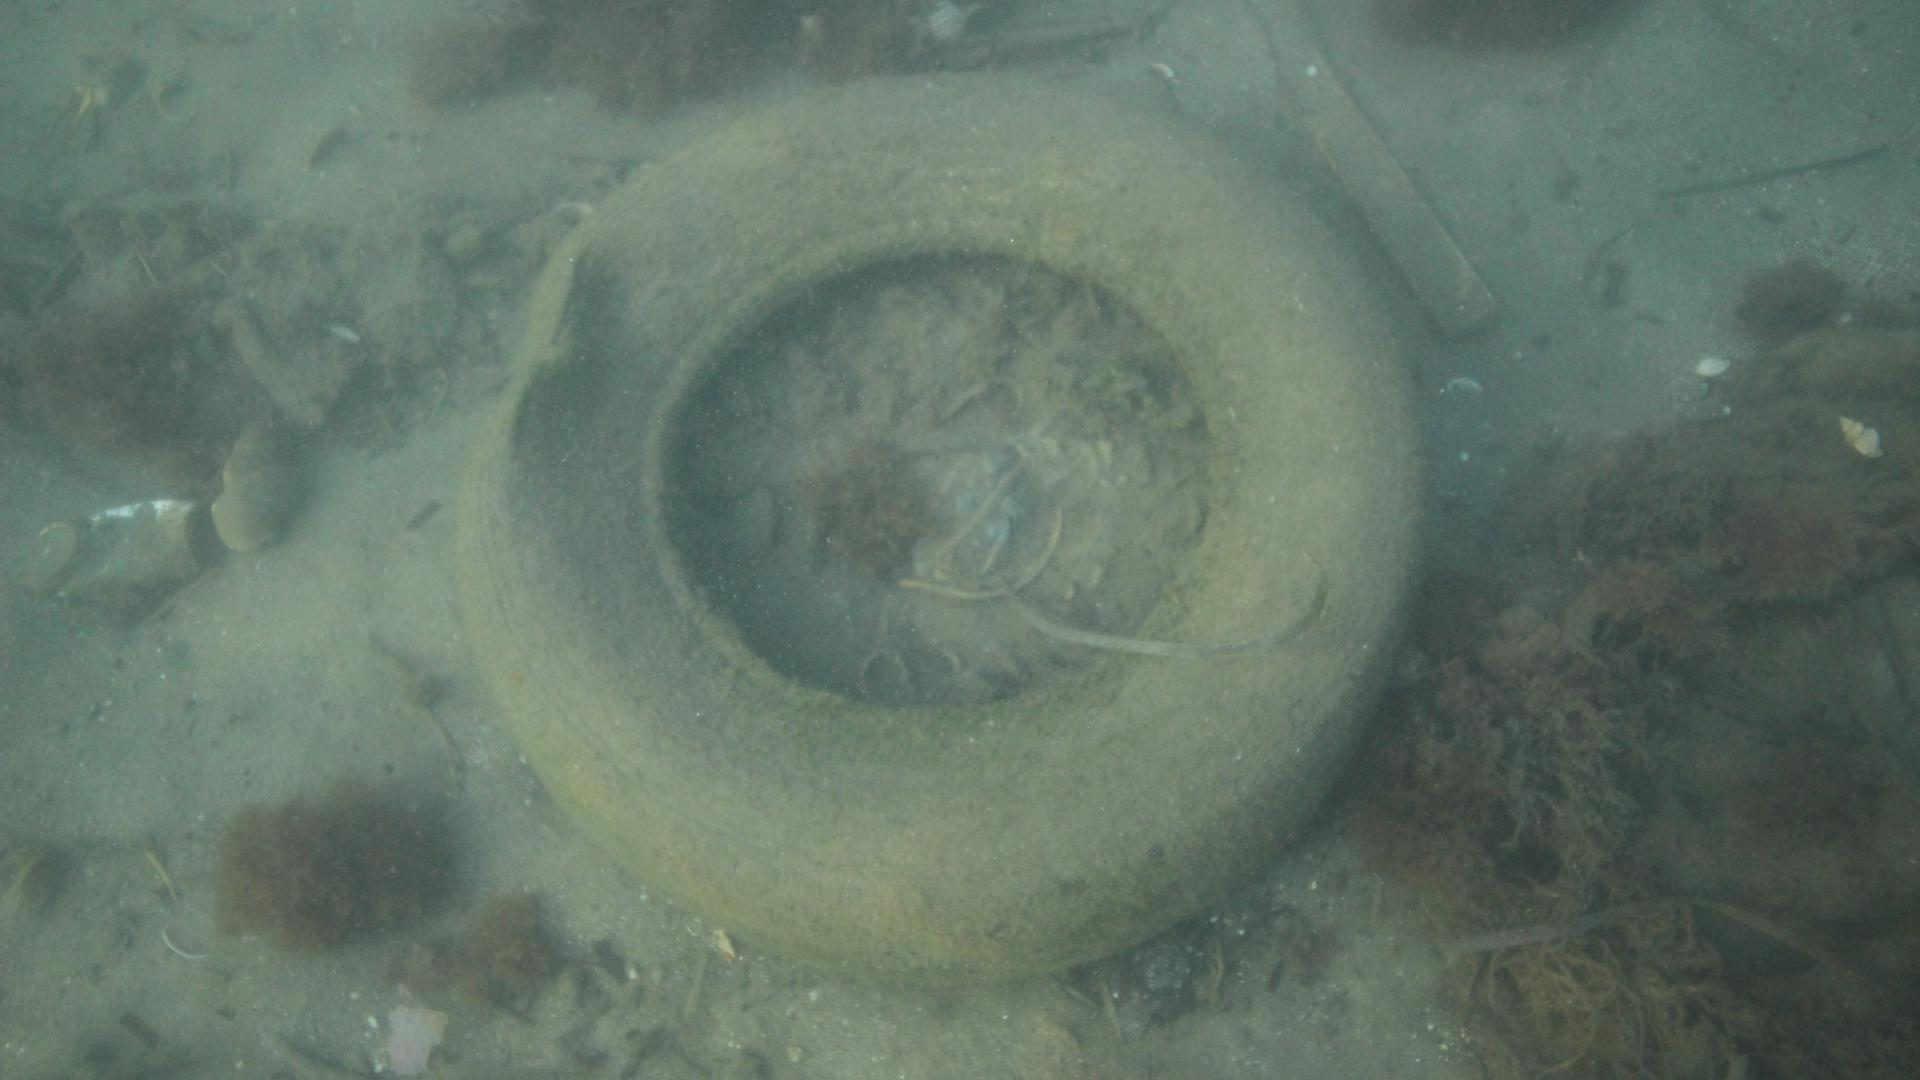tire: (454, 73, 1432, 984)
